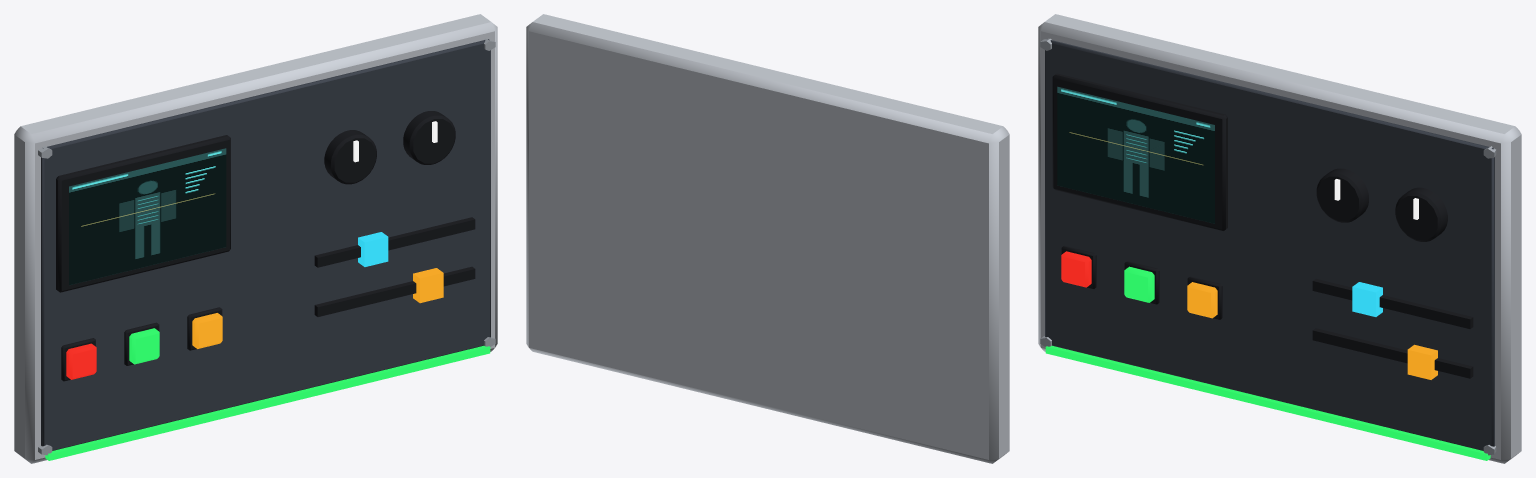
Rendered from controlpanel_environment_control.glb.
3 renders of one model, left to right at view 1: azimuth 30°, elevation 25°; view 2: azimuth 150°, elevation 25°; view 3: azimuth 330°, elevation 25°, orthographic.
Visible parts, largest first — view 1: controlpanel_environment_control; view 2: controlpanel_environment_control; view 3: controlpanel_environment_control.
Part boxes in pixels (bbox=[...]): controlpanel_environment_control: bbox=[14, 14, 497, 463]; controlpanel_environment_control: bbox=[526, 14, 1009, 463]; controlpanel_environment_control: bbox=[1038, 14, 1521, 463].
Size of the model in its own units: 0.6 by 0.4 by 0.069.
10 materials, 1 textured.
